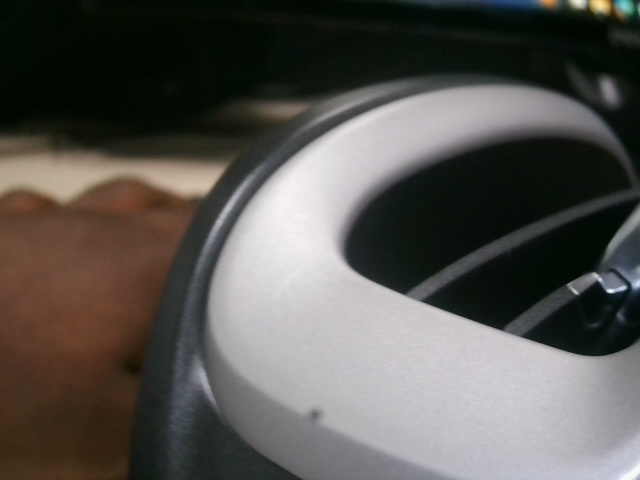NG: (268, 254, 320, 308)
